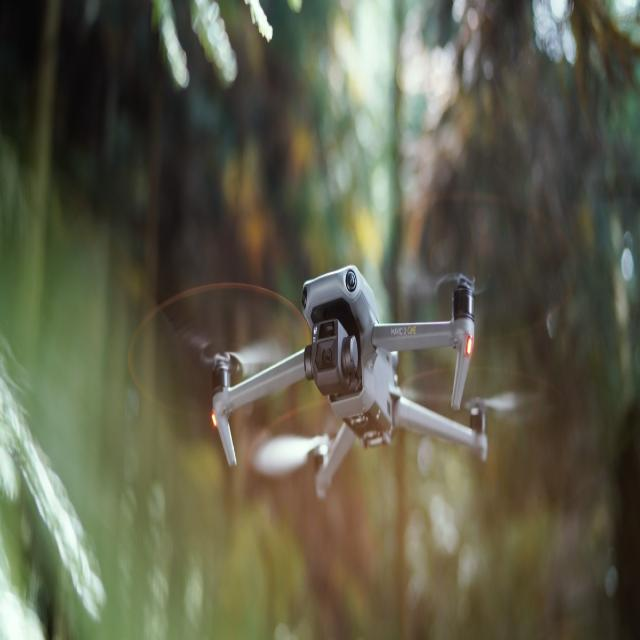drone: (159, 243, 552, 501)
